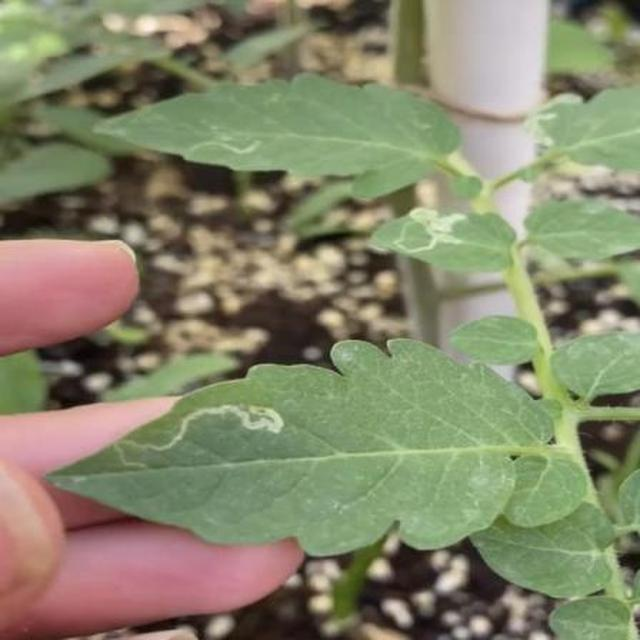Leaf Miner: (219, 105, 640, 639)
